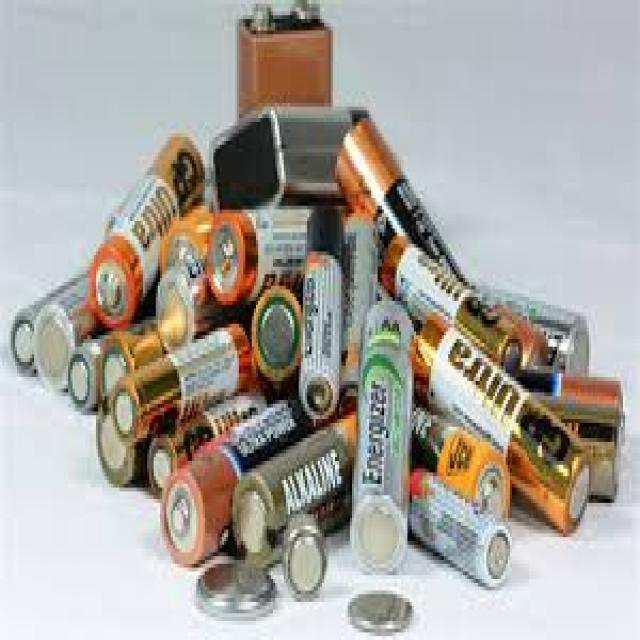battery: (411, 314, 596, 542), (334, 110, 476, 315), (161, 392, 315, 574), (88, 134, 207, 325), (230, 411, 360, 569), (381, 234, 523, 376), (205, 102, 370, 215), (110, 320, 254, 446), (148, 380, 272, 510), (404, 396, 516, 527), (355, 300, 408, 574), (403, 470, 517, 593), (205, 200, 318, 308), (237, 3, 331, 117), (304, 209, 344, 416), (340, 206, 380, 411), (34, 259, 92, 396)
